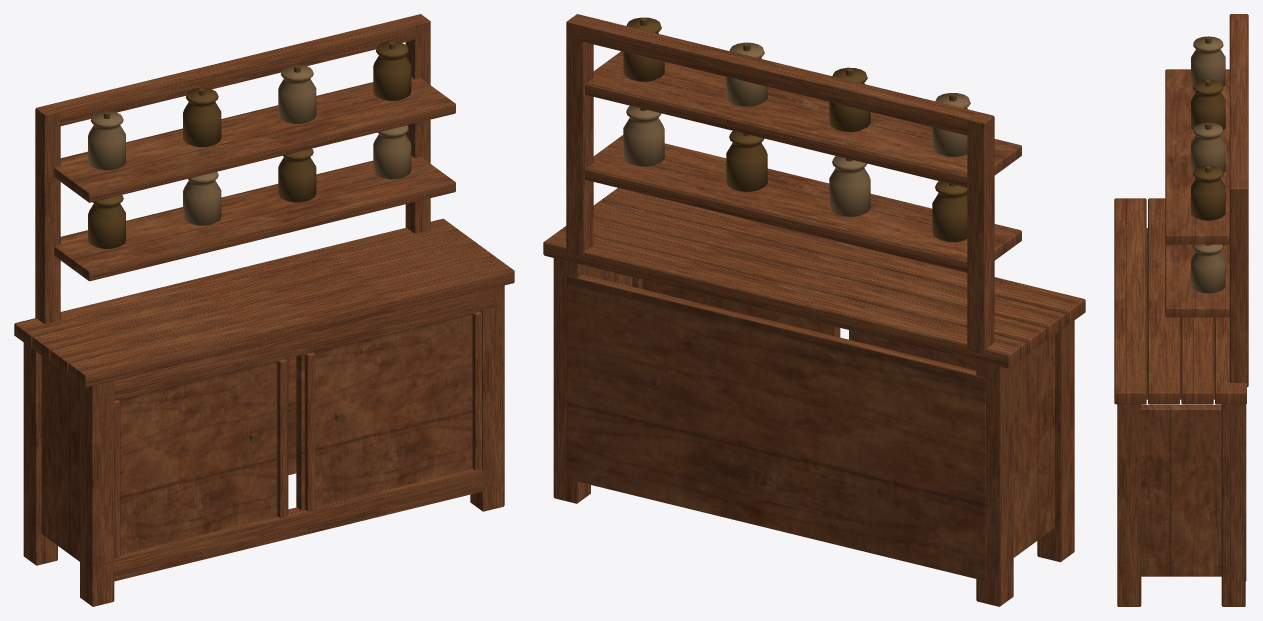
File: apothecary.glb
3 views of the same model, side by side, from view 1: azimuth 30°, elevation 25°; view 2: azimuth 150°, elevation 25°; view 3: azimuth 270°, elevation 25° (orthographic). The views are drawn at different scales.
Parts seen in each view (by area): view 1: apothecary; view 2: apothecary; view 3: apothecary.
Boxes of the visible parts, box(x1,y1,x2,y2) form: apothecary: box(14, 14, 514, 606); apothecary: box(543, 14, 1085, 606); apothecary: box(1114, 14, 1248, 606).
Size of the model in its own units: 1.72 by 1.7 by 0.5.
Materials: 1 (1 with a texture image).
